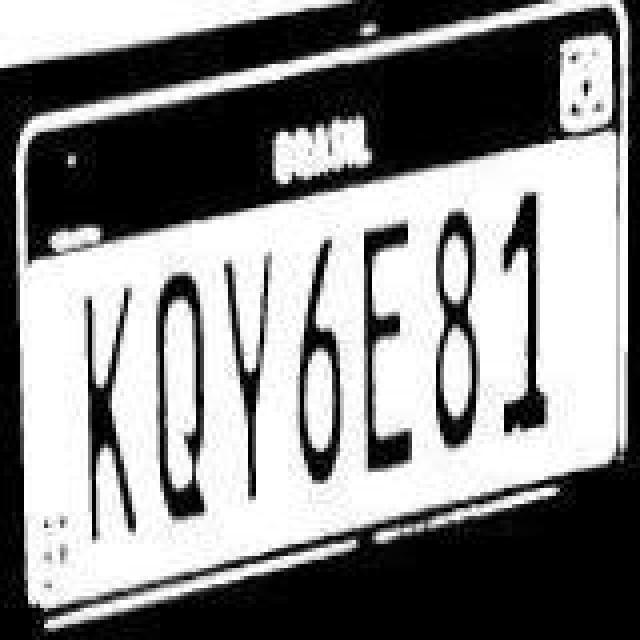1: (492, 184, 556, 468)
6: (290, 224, 350, 512)
8: (426, 200, 486, 484)
E: (358, 200, 426, 496)
K: (76, 260, 148, 552)
Q: (150, 256, 218, 548)
Y: (222, 234, 290, 522)
